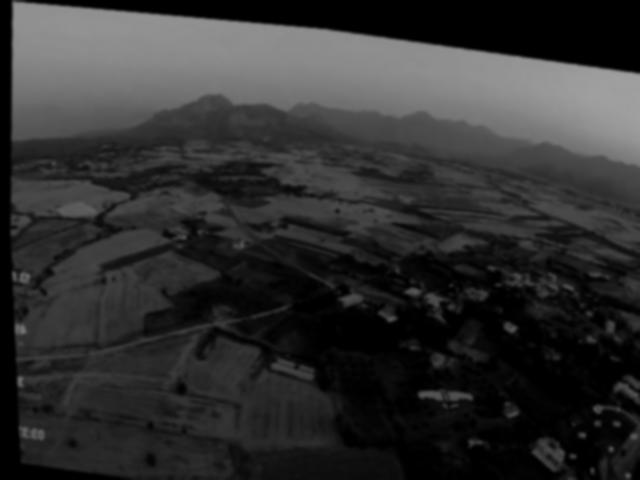hedef: (405, 367, 477, 414)
